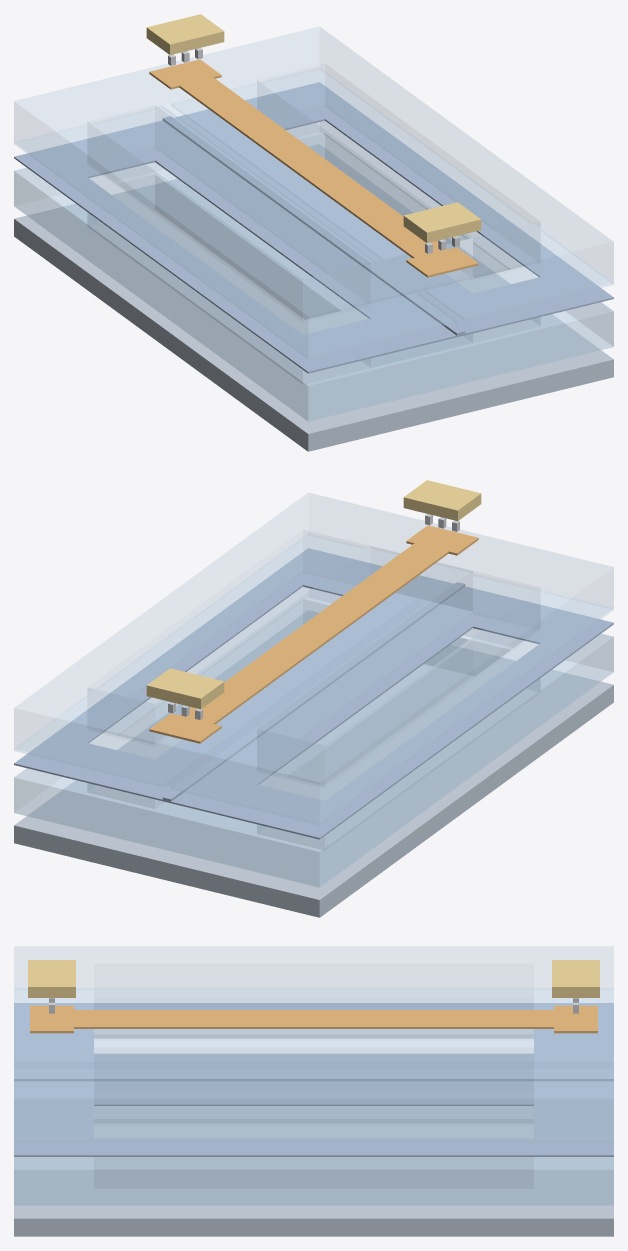
Rendered from stack-heater-x.glb.
3 views of the same model, one above another, from view 1: azimuth 30°, elevation 25°; view 2: azimuth 150°, elevation 25°; view 3: azimuth 270°, elevation 25° (orthographic).
Parts seen in each view (by area): view 1: cladx, sisub, si, box, tin18, metal1; view 2: cladx, sisub, si, box, tin18, metal1; view 3: cladx, sisub, si, box, tin18, metal1.
Part boxes in pixels (bbox=[...]): cladx: bbox=[14, 27, 613, 358]; sisub: bbox=[14, 144, 613, 451]; si: bbox=[14, 82, 613, 373]; box: bbox=[14, 121, 613, 421]; tin18: bbox=[149, 59, 478, 277]; metal1: bbox=[146, 14, 481, 243]; cladx: bbox=[14, 493, 613, 824]; sisub: bbox=[14, 610, 613, 917]; si: bbox=[14, 548, 613, 839]; box: bbox=[14, 587, 613, 887]; tin18: bbox=[149, 525, 478, 743]; metal1: bbox=[146, 480, 481, 709]; cladx: bbox=[14, 946, 613, 1142]; sisub: bbox=[14, 1106, 613, 1236]; si: bbox=[14, 1003, 613, 1156]; box: bbox=[14, 1029, 613, 1205]; tin18: bbox=[30, 1005, 597, 1033]; metal1: bbox=[28, 960, 599, 997].
Size of the model in its own units: 18 by 10.32 by 30.
